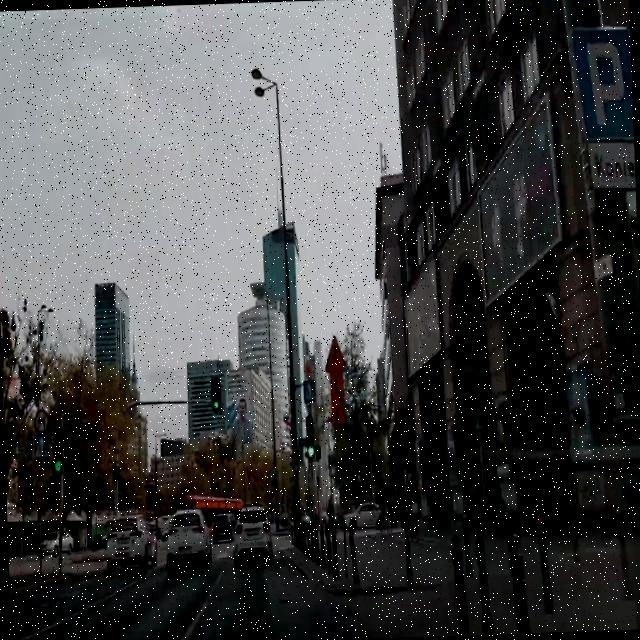Droga z pierwszenstwem: (302, 361, 312, 378)
